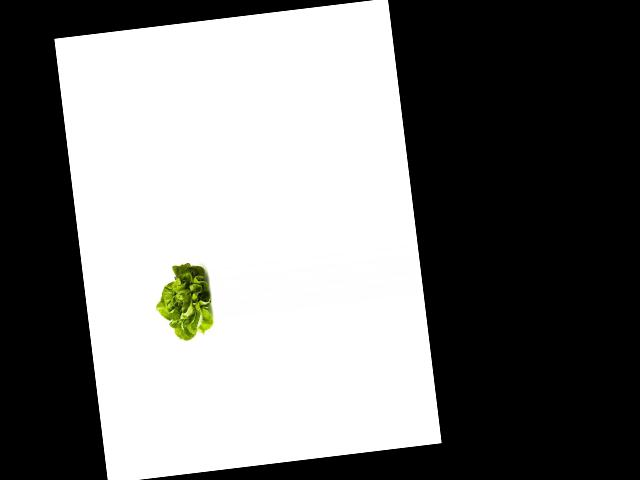lettuce: (151, 259, 216, 346)
